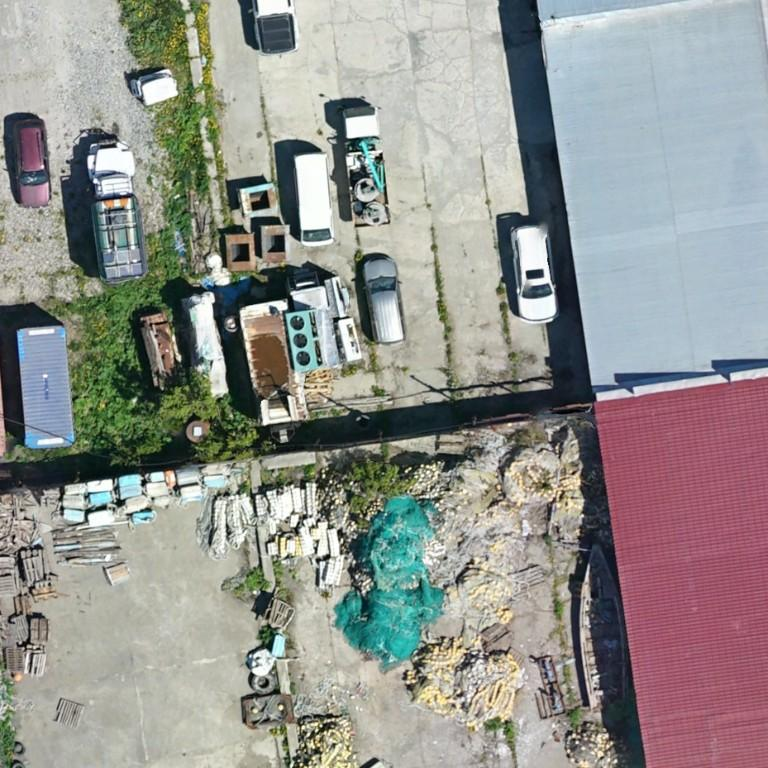hogweed: (72, 229, 196, 453)
